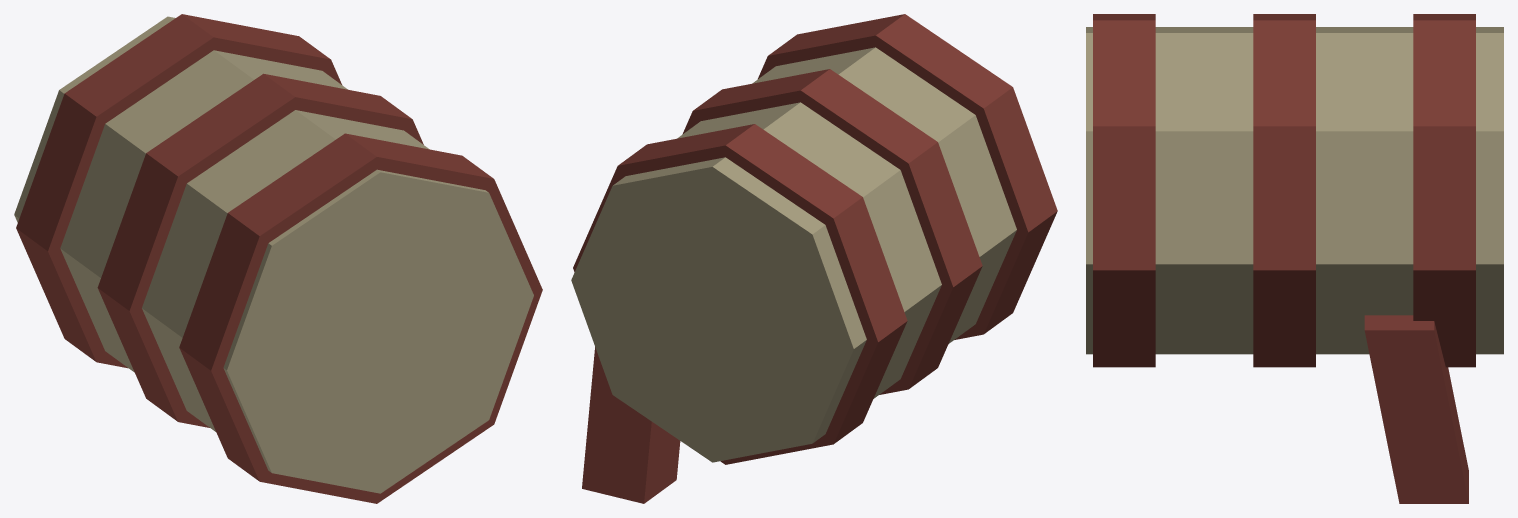
Rendered from mod_grip_wrapped.glb.
3 views of the same model, side by side, from view 1: azimuth 30°, elevation 25°; view 2: azimuth 150°, elevation 25°; view 3: azimuth 270°, elevation 25° (orthographic). The views are drawn at different scales.
Visible parts, largest first — view 1: grip_wrapped; view 2: grip_wrapped; view 3: grip_wrapped.
Boxes of the visible parts, left/top/right/bottom form: grip_wrapped: left=14, top=14, right=542, bottom=503; grip_wrapped: left=571, top=14, right=1057, bottom=503; grip_wrapped: left=1086, top=14, right=1503, bottom=503.
Size of the model in its own units: 0.108 by 0.129 by 0.12.
